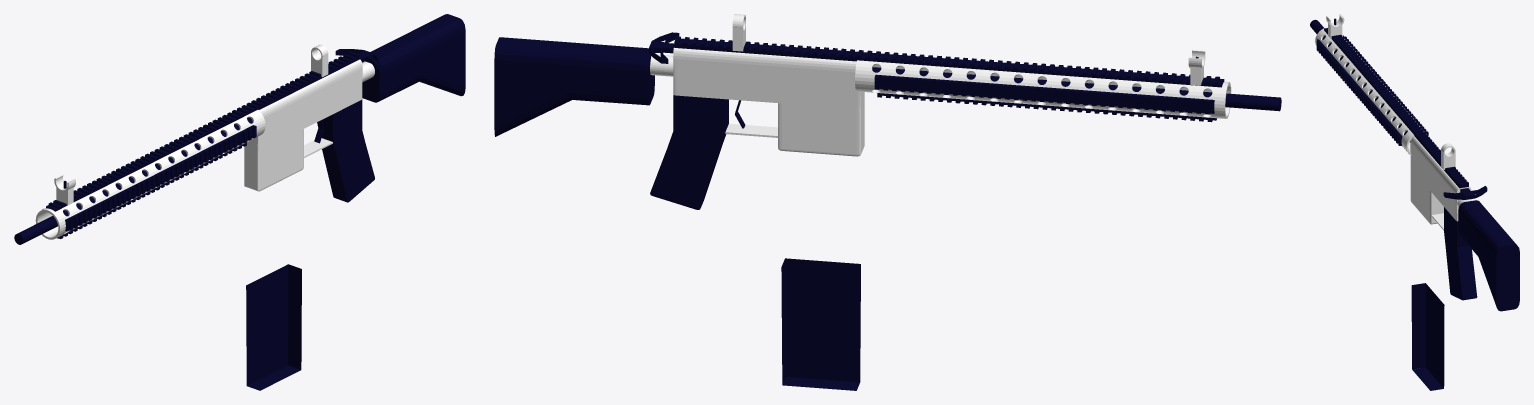
Rendered from stoner0019.obj.
3 views of the same model, side by side, from view 1: azimuth 30°, elevation 25°; view 2: azimuth 150°, elevation 25°; view 3: azimuth 270°, elevation 25° (orthographic). The views are drawn at different scales.
Parts seen in each view (by area): view 1: mag, shoulderStock, upperReceiver, rearPistolGrip, picatinyRail, handGuard, picatinyRailLeft, magWell, barrel, picatinyRailBottom; view 2: shoulderStock, mag, upperReceiver, handGuard, rearPistolGrip, picatinyRail, picatinyRailRight, magWell, barrel, picatinyRailBottom; view 3: shoulderStock, mag, picatinyRail, rearPistolGrip, upperReceiver, handGuard, picatinyRailLeft, magWell, picatinyRailRight, handle, barrel, rearSight.
Part boxes in pixels (x1,y1,x2,y2): mag: (246,264,301,390); shoulderStock: (362,14,465,102); upperReceiver: (244,59,362,151); rearPistolGrip: (321,99,374,202); picatinyRail: (46,51,359,211); handGuard: (35,110,265,239); picatinyRailLeft: (65,125,256,231); magWell: (244,129,303,191); barrel: (14,117,252,244); picatinyRailBottom: (57,142,246,238); shoulderStock: (494,37,654,136); mag: (781,258,860,390); upperReceiver: (673,47,864,108); handGuard: (855,60,1231,118); rearPistolGrip: (650,95,728,209); picatinyRail: (674,36,1224,87); picatinyRailRight: (874,74,1214,114); magWell: (778,101,864,156); barrel: (872,67,1281,111); picatinyRailBottom: (877,93,1216,122); shoulderStock: (1458,200,1519,311); mag: (1411,283,1444,390); picatinyRail: (1324,28,1468,188); rearPistolGrip: (1444,207,1477,300); upperReceiver: (1410,136,1471,221); handGuard: (1315,27,1428,155); picatinyRailLeft: (1316,39,1402,145); magWell: (1410,168,1443,224); picatinyRailRight: (1342,35,1428,135); handle: (1443,186,1487,199); barrel: (1310,19,1410,142); rearSight: (1441,151,1455,169).
Bounding box in the file's own units: 8.56 × 4.53 × 3.34.
